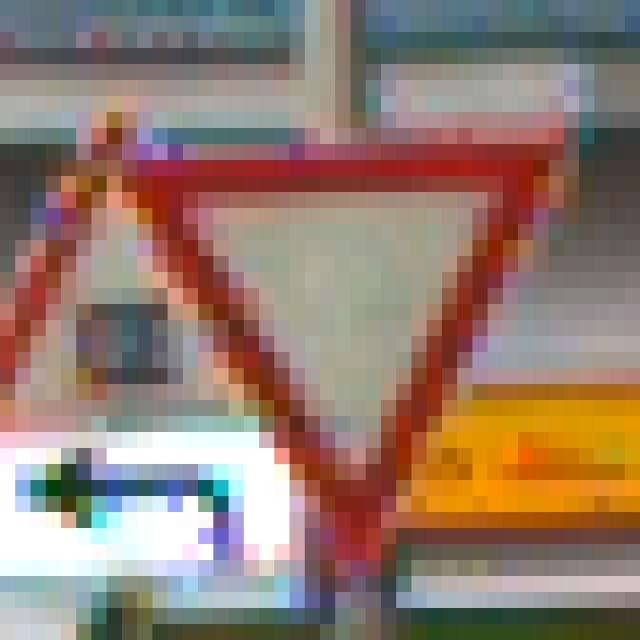Give Way: (77, 81, 565, 561)
